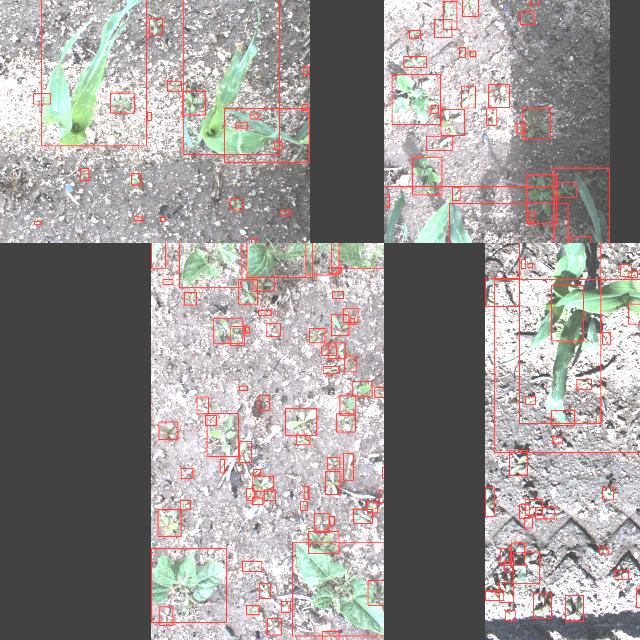crop: (493, 278, 640, 451), (40, 0, 145, 145), (182, 0, 279, 153), (518, 243, 600, 423), (384, 186, 554, 243), (291, 541, 384, 635), (150, 548, 226, 622), (448, 202, 567, 243), (224, 108, 310, 162), (553, 167, 609, 243), (178, 243, 241, 287), (246, 243, 312, 276), (331, 243, 384, 267), (305, 243, 338, 274), (484, 278, 518, 306), (150, 243, 165, 267)
weed: (392, 74, 441, 124), (550, 284, 582, 340), (526, 174, 556, 222), (206, 412, 238, 456), (411, 156, 441, 194), (522, 107, 550, 139), (284, 407, 316, 435), (513, 551, 539, 583), (308, 530, 338, 554), (212, 318, 242, 342), (156, 508, 180, 536), (440, 109, 464, 135), (182, 90, 204, 114), (237, 278, 257, 304), (110, 92, 134, 112), (564, 594, 582, 620), (488, 84, 508, 106), (532, 594, 550, 618), (508, 450, 526, 474), (367, 579, 384, 604), (442, 1, 456, 29), (324, 471, 340, 494), (426, 135, 452, 149), (336, 413, 356, 431), (330, 314, 348, 334), (460, 85, 476, 107), (510, 542, 524, 566), (550, 410, 574, 424), (433, 19, 451, 37), (158, 421, 176, 439), (351, 380, 371, 396), (339, 394, 355, 414), (554, 182, 576, 196), (252, 277, 274, 291), (484, 486, 494, 516), (327, 342, 345, 358), (228, 326, 244, 344), (524, 498, 542, 514), (352, 508, 372, 522), (343, 452, 353, 480), (314, 512, 328, 532), (252, 476, 272, 490), (498, 582, 512, 602), (627, 303, 640, 323), (238, 441, 250, 462), (158, 606, 172, 624), (462, 0, 478, 15), (402, 56, 426, 66), (534, 506, 554, 518), (148, 18, 162, 34), (308, 328, 324, 342), (266, 618, 280, 634), (342, 307, 358, 321), (196, 396, 208, 414), (241, 561, 261, 571), (484, 590, 504, 600), (266, 322, 280, 336), (344, 355, 356, 371), (258, 582, 270, 598), (32, 93, 49, 103), (326, 456, 339, 469), (569, 235, 590, 243), (520, 12, 534, 24), (486, 108, 496, 124), (322, 630, 338, 640), (259, 394, 269, 410), (499, 548, 509, 564), (182, 292, 195, 304), (230, 197, 242, 209), (619, 263, 631, 275), (167, 80, 181, 90), (322, 345, 336, 355), (295, 434, 309, 444), (518, 504, 528, 518), (576, 378, 590, 388), (322, 365, 338, 373), (280, 600, 290, 612), (246, 604, 258, 614), (204, 415, 216, 425), (180, 468, 192, 478), (602, 487, 612, 499), (614, 570, 628, 578), (130, 173, 140, 184), (367, 502, 378, 512), (264, 488, 274, 499), (408, 29, 420, 38), (503, 560, 512, 572), (451, 187, 459, 200), (516, 122, 526, 132), (374, 387, 384, 397), (179, 499, 189, 509), (504, 610, 514, 620), (635, 587, 640, 607), (522, 517, 532, 527), (80, 168, 88, 180), (245, 488, 253, 500), (602, 331, 610, 343), (218, 458, 224, 472), (252, 496, 262, 504), (332, 290, 342, 298), (524, 396, 534, 404), (235, 122, 247, 128), (379, 489, 384, 502), (430, 105, 438, 113), (459, 46, 465, 56), (330, 267, 340, 273), (162, 278, 172, 284), (300, 500, 306, 510), (598, 547, 608, 553), (552, 436, 562, 442), (627, 270, 637, 276), (304, 485, 308, 499), (384, 193, 388, 206), (303, 66, 309, 74), (274, 142, 282, 148), (328, 516, 334, 524), (238, 384, 246, 390), (252, 469, 260, 475), (258, 310, 270, 314), (280, 210, 290, 214), (530, 211, 534, 221), (520, 258, 524, 268), (302, 104, 308, 110), (469, 50, 475, 56), (529, 0, 538, 4), (250, 114, 258, 118), (147, 112, 151, 120), (134, 216, 142, 220), (251, 238, 256, 243), (160, 216, 164, 222), (245, 326, 249, 332), (350, 318, 354, 324), (526, 263, 532, 267), (34, 220, 40, 223)
